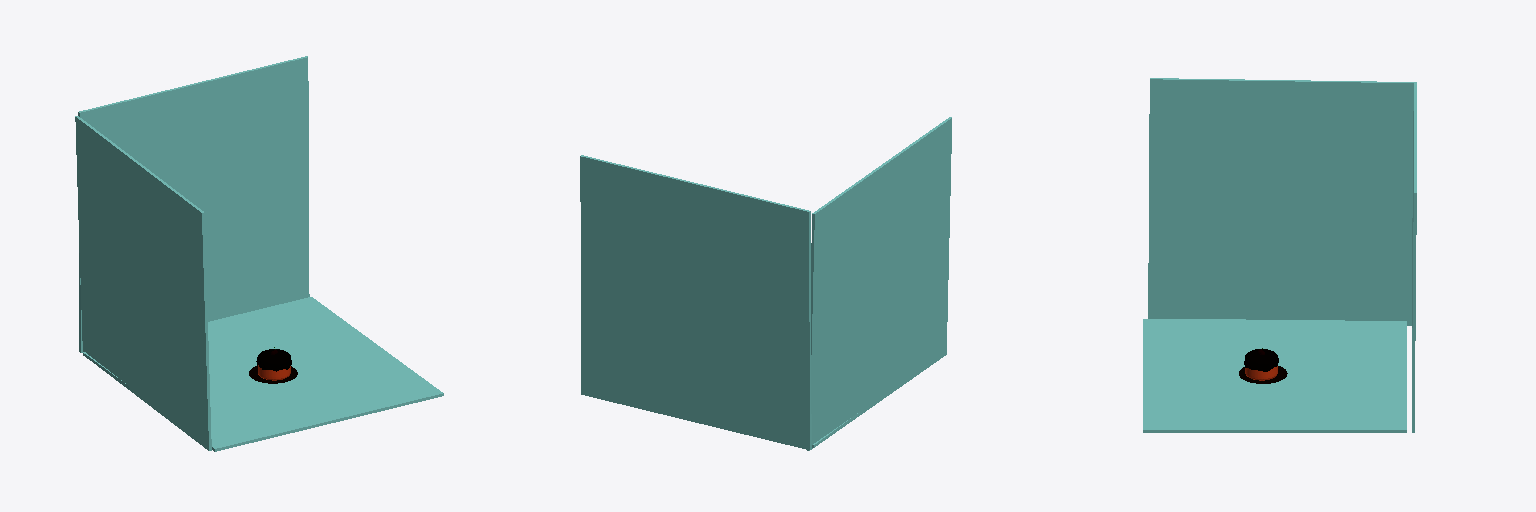
File: Cake01.obj
3 views of the same model, side by side, from view 1: azimuth 30°, elevation 25°; view 2: azimuth 150°, elevation 25°; view 3: azimuth 270°, elevation 25° (orthographic).
Visible parts, largest first — view 1: Куб.001_Куб.002, Куб.002_Куб.003, Куб_Куб.001, Плоскость; view 2: Куб.001_Куб.002, Куб.002_Куб.003; view 3: Куб.002_Куб.003, Куб_Куб.001, Куб.001_Куб.002, Плоскость.
Part boxes in pixels (x1,y1,x2,y2): Куб.001_Куб.002: (78,56,309,352); Куб.002_Куб.003: (75,116,211,450); Куб_Куб.001: (83,297,443,451); Плоскость: (256,349,291,371); Куб.001_Куб.002: (580,155,811,449); Куб.002_Куб.003: (807,117,951,450); Куб.002_Куб.003: (1148,78,1413,325); Куб_Куб.001: (1143,319,1406,432); Куб.001_Куб.002: (1412,82,1416,432); Плоскость: (1244,349,1278,371).
Bounding box in the file's own units: 31.82 × 30.8 × 31.63.